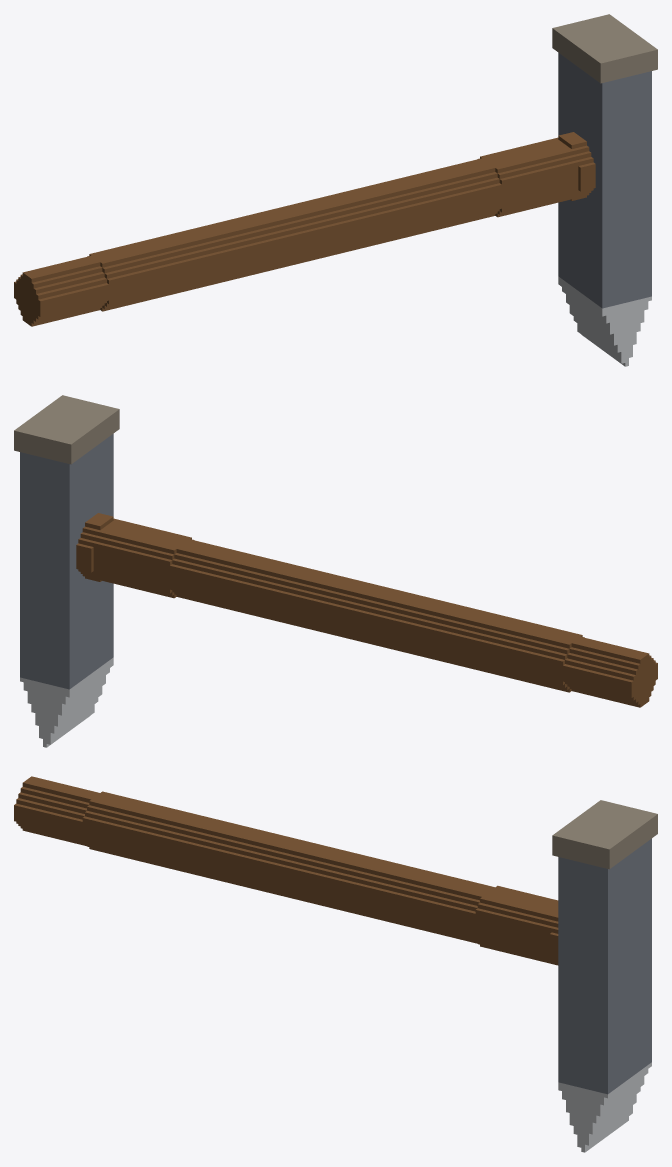
File: hotcut.glb
3 views of the same model, one above another, from view 1: azimuth 30°, elevation 25°; view 2: azimuth 150°, elevation 25°; view 3: azimuth 330°, elevation 25° (orthographic).
Visible parts, largest first — view 1: hotcut:compound; view 2: hotcut:compound; view 3: hotcut:compound.
Part boxes in pixels (bbox=[...]): hotcut:compound: bbox=[14, 14, 657, 366]; hotcut:compound: bbox=[14, 395, 657, 747]; hotcut:compound: bbox=[14, 776, 657, 1152].
Bounding box in the file's own units: 0.318 × 0.156 × 0.044.
